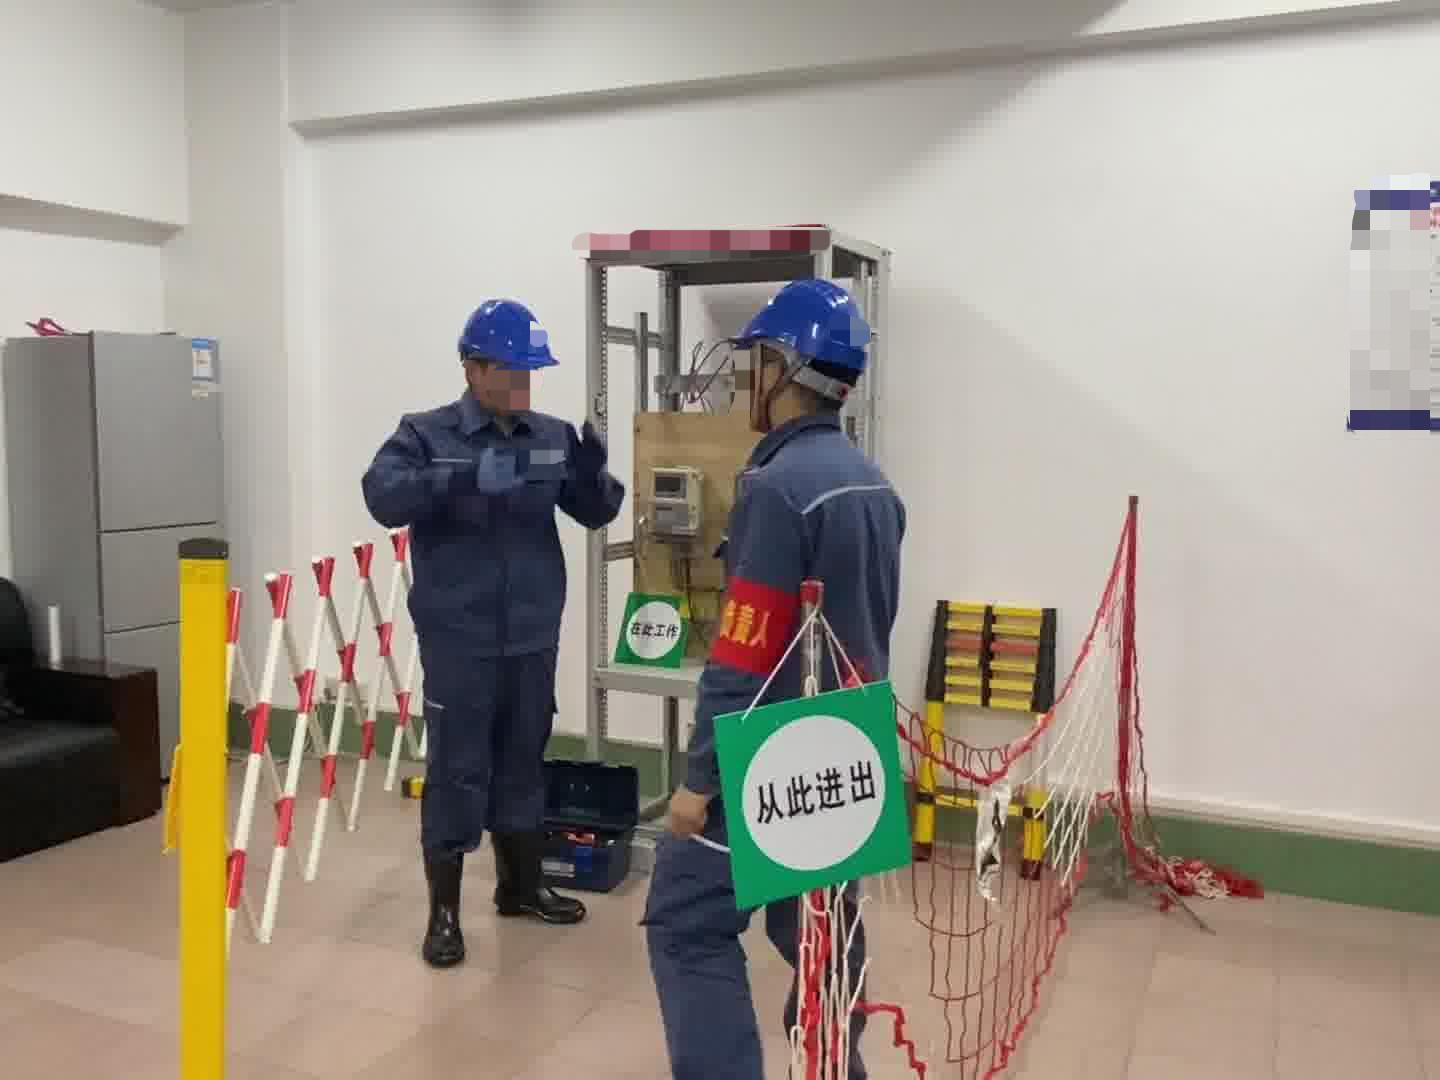halt: (732, 278, 873, 428), (454, 299, 557, 417)
inear: (753, 346, 801, 419)
noear: (463, 357, 494, 399)
